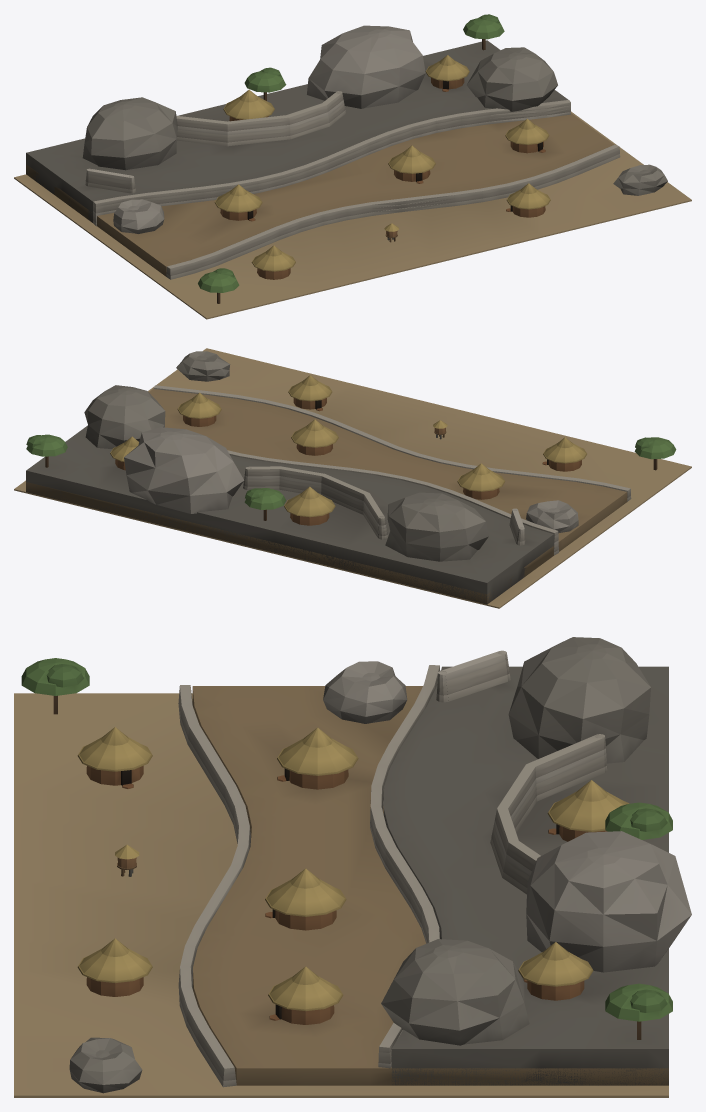
Rendered from eastern-ruins.glb.
3 renders of one model, top to bottom at view 1: azimuth 30°, elevation 25°; view 2: azimuth 150°, elevation 25°; view 3: azimuth 270°, elevation 25°, orthographic. The views are drawn at different scales.
Parts seen in each view (by area): view 1: p0_slope, p1_terrace-walls, p2_houses; view 2: p0_slope, p2_houses, p1_terrace-walls; view 3: p0_slope, p2_houses, p1_terrace-walls.
Boxes of the visible parts, <box> form: p0_slope: <box>14,25,691,319</box>; p1_terrace-walls: <box>85,91,620,279</box>; p2_houses: <box>198,14,550,303</box>; p0_slope: <box>14,348,691,608</box>; p2_houses: <box>26,375,676,525</box>; p1_terrace-walls: <box>153,385,631,555</box>; p0_slope: <box>14,637,691,1097</box>; p2_houses: <box>21,658,672,1039</box>; p1_terrace-walls: <box>178,650,607,1087</box>.
Size of the model in its own units: 80 by 11.87 by 56.94.
